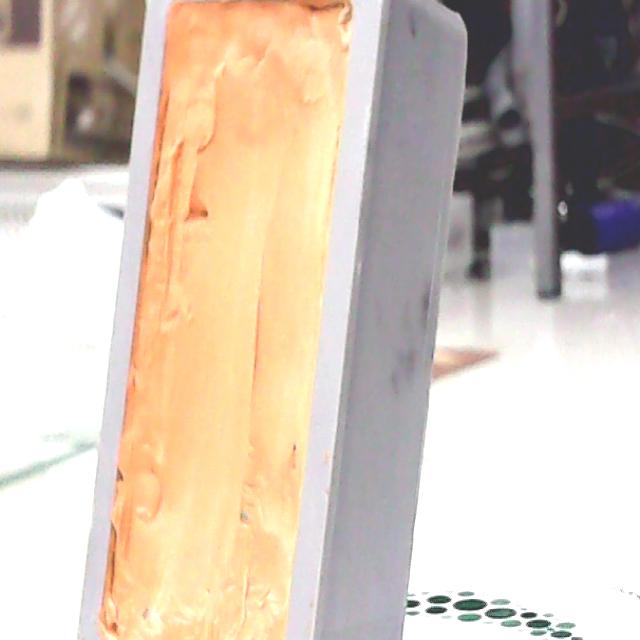block: (75, 0, 458, 640)
